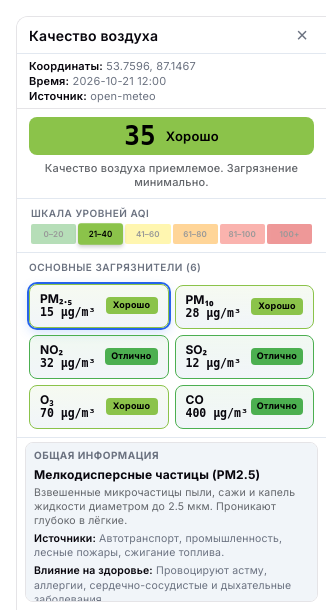
Test: RightAirPanel Pinning (Фиксация и расфиксация загрязнителей по клику) › 5. Клик по другому веществу переносит фиксацию на новое вещество
Click the button with aria-label "NO₂: 32, норма: Отлично" at (99, 357), box 29,335 -> 168,379
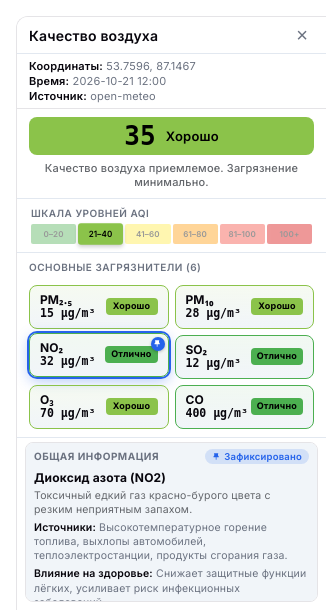
Check: the button with aria-label "NO₂: 32, норма: Отлично, зафиксировано" has class "pollutant-tile--pinned", box 29,333 -> 168,377
// Кликаем по CO
Click the button with aria-label "CO: 400, норма: Отлично" at (244, 407), box 174,385 -> 314,429
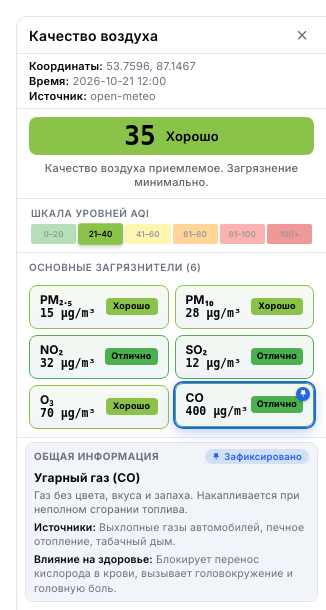
Check: the text "Угарный газ (CO)" is shown, box 34,470 -> 140,485
